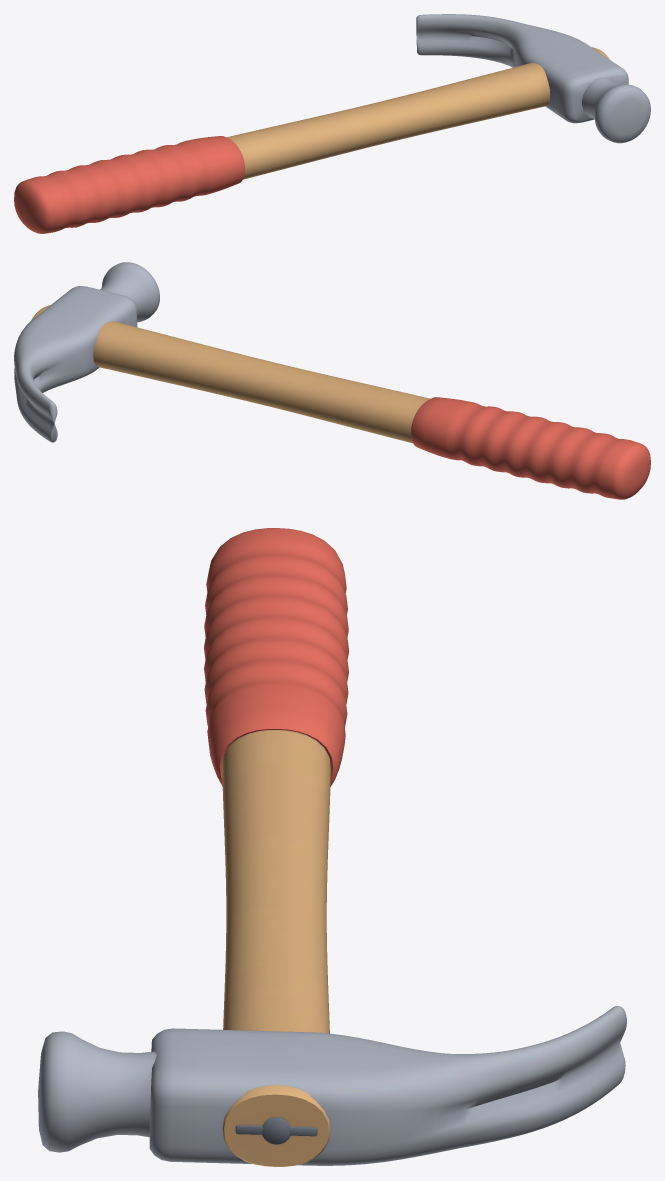
File: martillo.glb
3 renders of one model, top to bottom at view 1: azimuth 30°, elevation 25°; view 2: azimuth 150°, elevation 25°; view 3: azimuth 270°, elevation 25°, orthographic. The views are drawn at different scales.
Parts seen in each view (by area): view 1: claw-hammer_body; view 2: claw-hammer_body; view 3: claw-hammer_body.
Part boxes in pixels (x1=…): claw-hammer_body: x1=14, y1=14, x2=650, y2=233; claw-hammer_body: x1=14, y1=262, x2=650, y2=499; claw-hammer_body: x1=38, y1=528, x2=626, y2=1166.
Bounding box in the file's own units: 0.3311 × 0.03 × 0.1456.
1 material, 1 textured.
